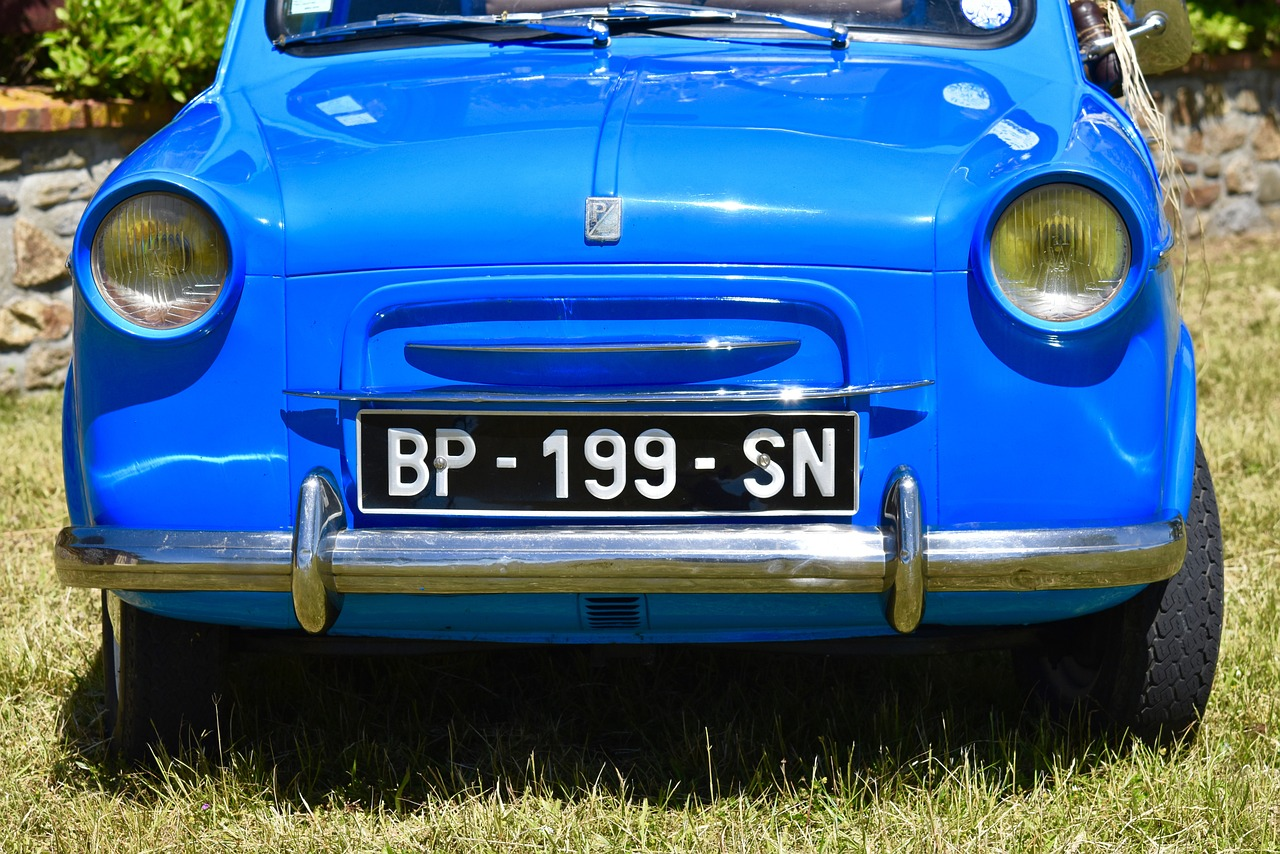number_plate: (358, 408, 861, 514)
